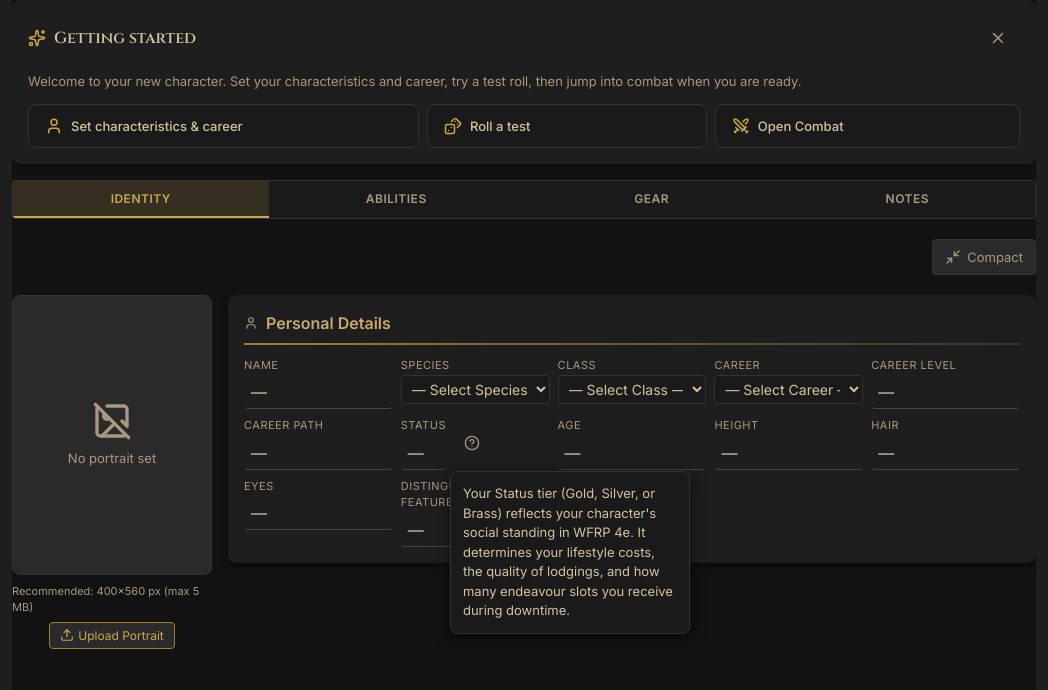
it: Interaction Consolidation — Add Dropdown (Req 9.4) › "Add" button on abilities tab reveals "Add from Rulebook" and "Add Custom" options
Navigate to Abilities tab
Click the tab "Abilities": (396, 199) [268, 180, 524, 218]
(page scrolled)
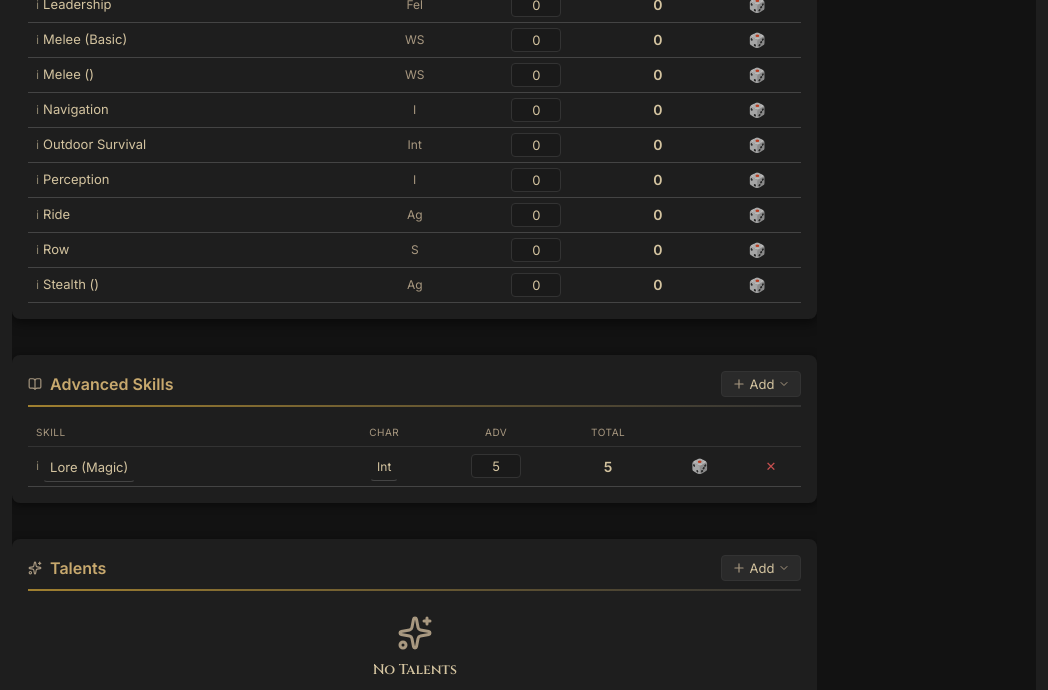
Click the first "Add" dropdown button (for advanced skills)
Click the button "Add" in the row of "Advanced Skills": (761, 384) [721, 370, 802, 396]
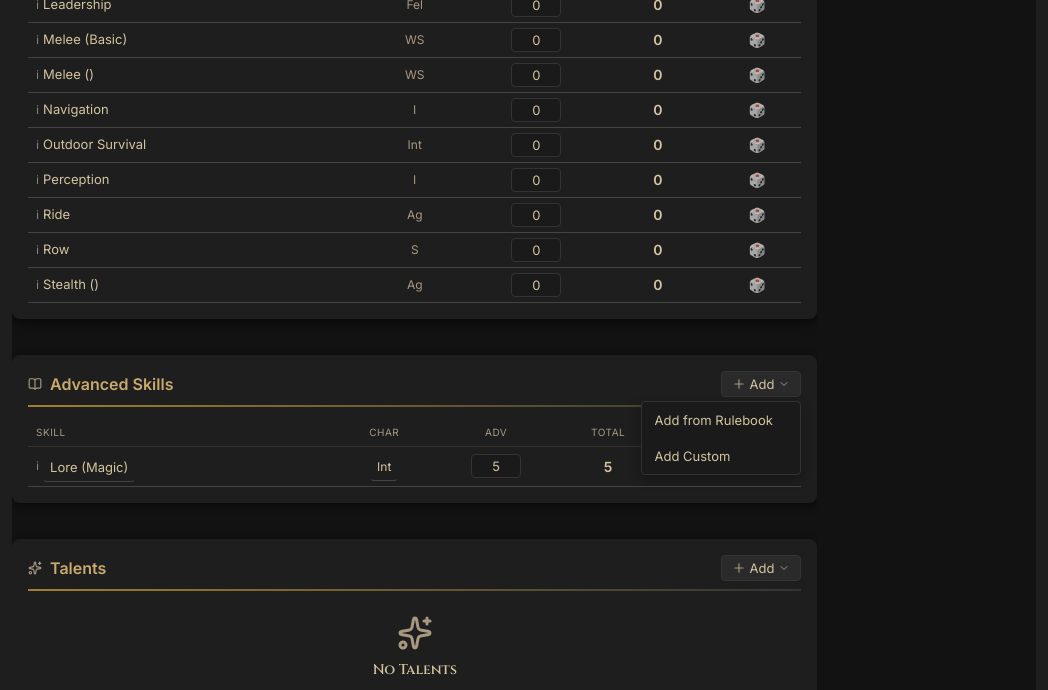
Expected: the menu item "Add from Rulebook" is shown, [642, 402, 800, 438]
Expected: the menu item "Add Custom" is shown, [642, 438, 800, 474]
